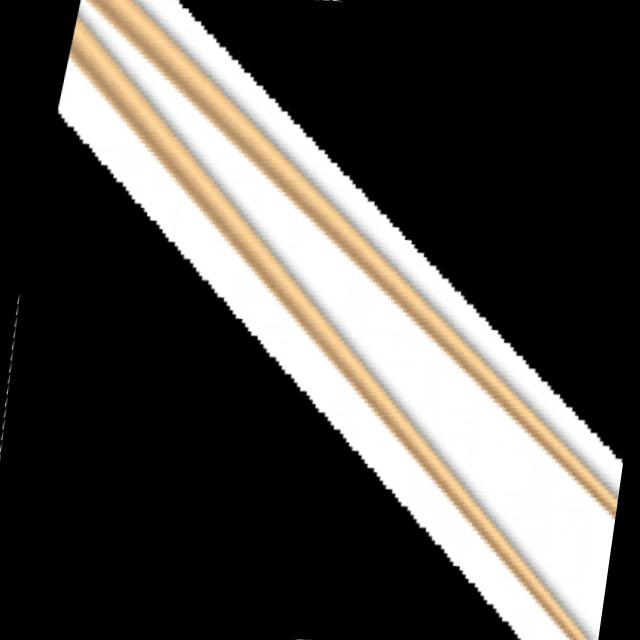others: (50, 0, 622, 640)
